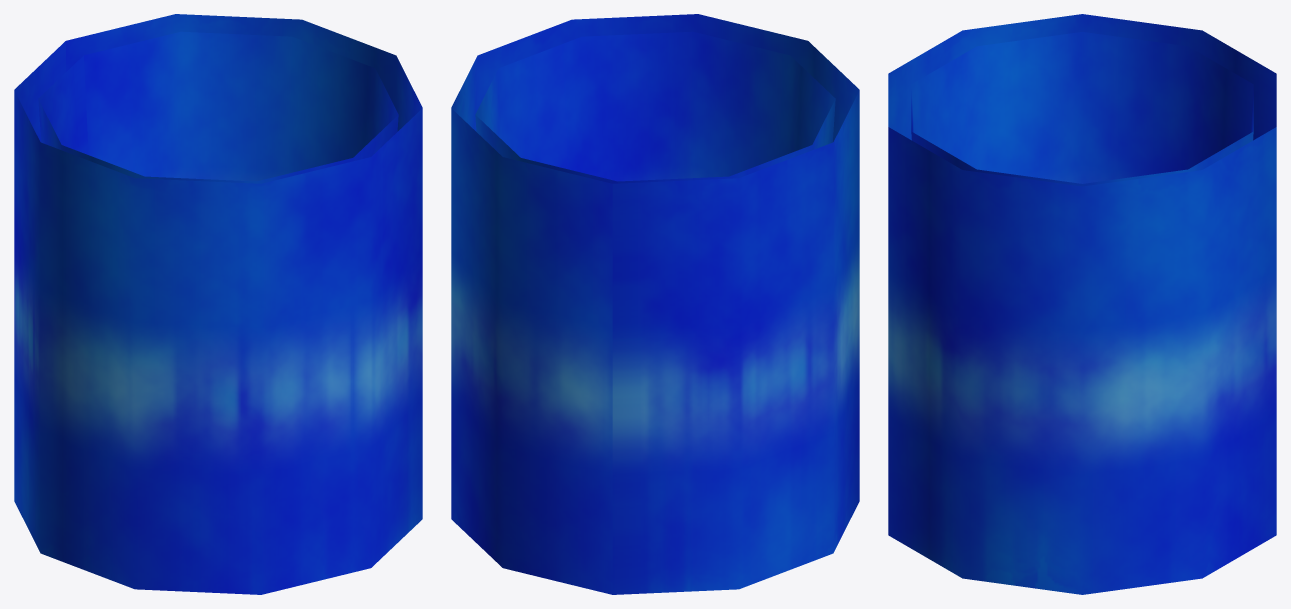
File: DownWave.fbx
3 views of the same model, side by side, from view 1: azimuth 30°, elevation 25°; view 2: azimuth 150°, elevation 25°; view 3: azimuth 270°, elevation 25° (orthographic).
Parts seen in each view (by area): view 1: polymsh; view 2: polymsh; view 3: polymsh.
Part boxes in pixels (<box>): polymsh: <box>14,14,422,594</box>; polymsh: <box>451,14,859,594</box>; polymsh: <box>888,14,1276,594</box>.
Size of the model in its own units: 2 by 2.21 by 1.9.
1 material, 1 textured.
